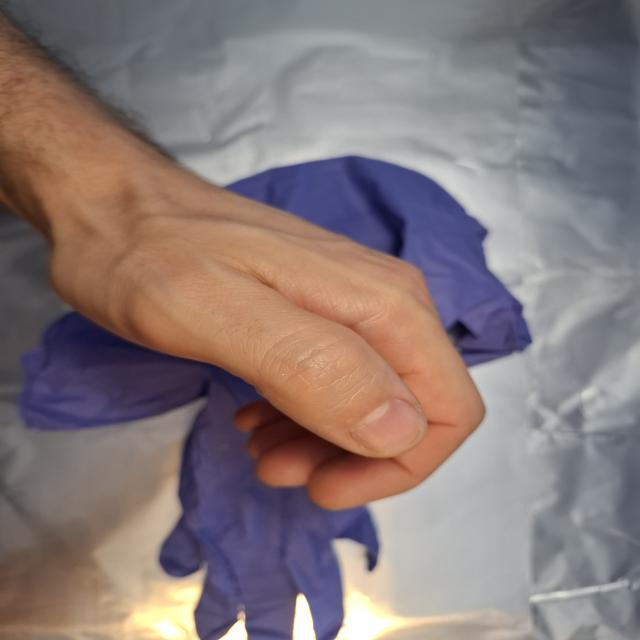glove_off: (39, 176, 491, 514)
